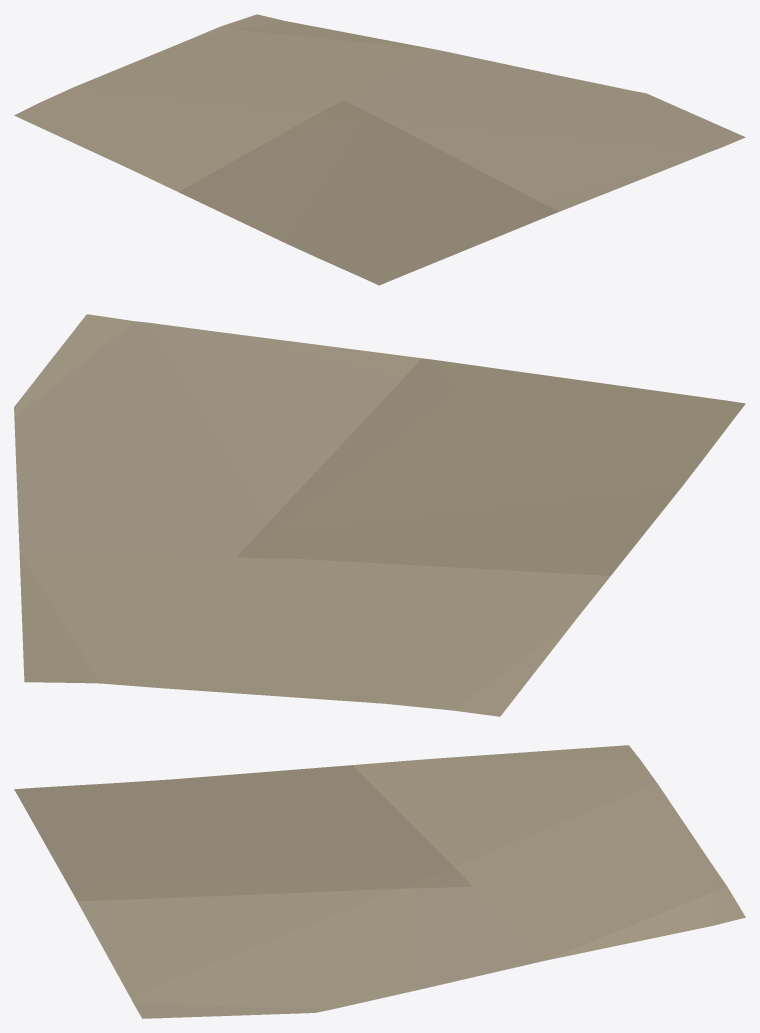
Rendered from farm_-4_14_soil.glb.
The picture shows the model from 3 angles, top to bottom: view 1: azimuth 30°, elevation 25°; view 2: azimuth 150°, elevation 25°; view 3: azimuth 270°, elevation 25°; orthographic projection. The views are drawn at different scales.
Visible parts, largest first — view 1: geometry_0; view 2: geometry_0; view 3: geometry_0.
Part boxes in pixels (bbox=[...]): geometry_0: bbox=[14, 14, 745, 285]; geometry_0: bbox=[14, 314, 745, 716]; geometry_0: bbox=[14, 745, 745, 1018].
Bounding box in the file's own units: 181 × 6.18 × 196.
